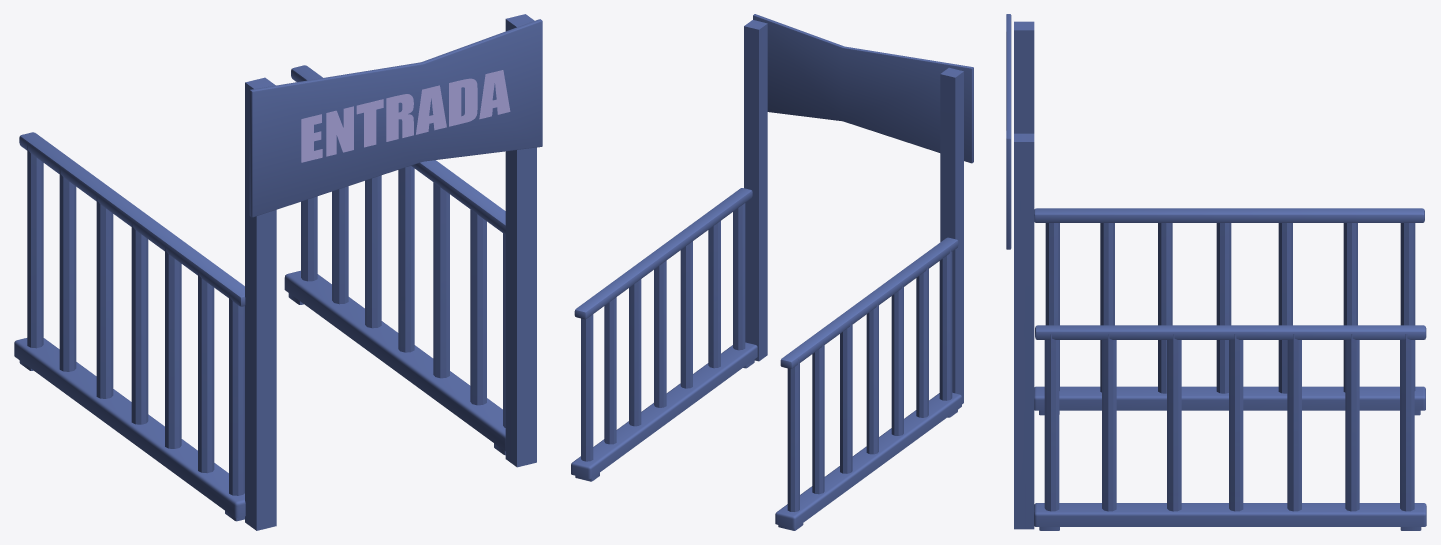
The model's file is MSH_Entrada_2.fbx.
3 views of the same model, side by side, from view 1: azimuth 30°, elevation 25°; view 2: azimuth 150°, elevation 25°; view 3: azimuth 270°, elevation 25° (orthographic). The views are drawn at different scales.
Parts seen in each view (by area): view 1: MSH_Entrada2; view 2: MSH_Entrada2; view 3: MSH_Entrada2.
Part boxes in pixels (box(x1,y1,x2,y2)): MSH_Entrada2: box(14, 14, 542, 530); MSH_Entrada2: box(571, 14, 973, 530); MSH_Entrada2: box(1006, 14, 1426, 530).
Bounding box in the file's own units: 89.36 × 128 × 125.
